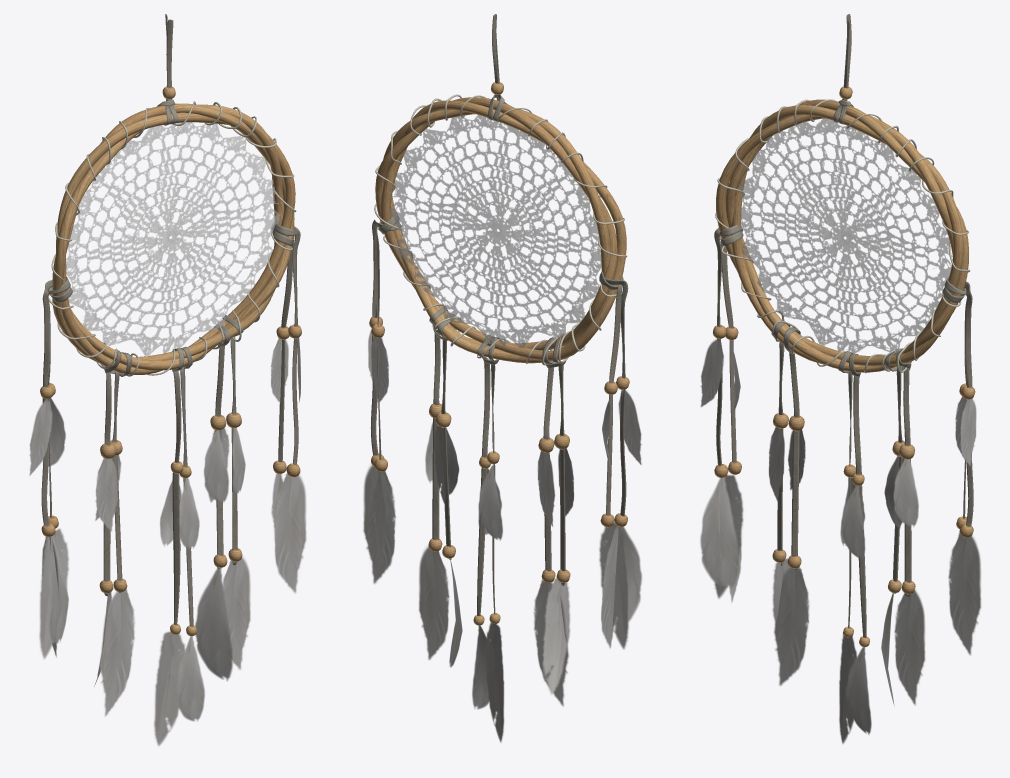
File: dreamcatcher.glb
3 renders of one model, left to right at view 1: azimuth 30°, elevation 25°; view 2: azimuth 150°, elevation 25°; view 3: azimuth 330°, elevation 25°, orthographic.
Visible parts, largest first — view 1: Plane.001_23, Cylinder.001_25, Cylinder.002_24, Plane.006_33, Plane.002_32, Cylinder_26, Plane.010_17, Plane.009_18, Plane.023_3, Sphere.007_29, mid_31, Plane.011_16 (+14 smaller); view 2: Plane.001_23, Cylinder.002_24, Cylinder.001_25, Plane.002_32, Plane.006_33, Cylinder_26, Sphere.007_29, Plane.003_19, Plane.012_15, String_0, mid_31, Plane.009_18 (+16 smaller); view 3: Plane.001_23, Cylinder_26, Plane.002_32, Cylinder.002_24, Cylinder.001_25, Plane.006_33, Plane.005_21, Plane.010_17, Plane.009_18, Sphere.007_29, Plane.003_19, String_0 (+13 smaller).
Part boxes in pixels (<box>): Plane.001_23: <box>66,122,279,355</box>; Cylinder.001_25: <box>56,112,295,374</box>; Cylinder.002_24: <box>52,104,283,362</box>; Plane.006_33: <box>41,223,300,525</box>; Plane.002_32: <box>100,315,243,596</box>; Cylinder_26: <box>52,103,294,370</box>; Plane.010_17: <box>99,589,134,716</box>; Plane.009_18: <box>273,473,306,593</box>; Plane.023_3: <box>195,568,232,681</box>; Sphere.007_29: <box>40,324,301,636</box>; mid_31: <box>172,346,193,626</box>; Plane.011_16: <box>154,631,185,746</box>; Plane.001_23: <box>391,115,601,347</box>; Cylinder.002_24: <box>380,100,626,361</box>; Cylinder.001_25: <box>383,108,610,363</box>; Plane.002_32: <box>429,307,565,585</box>; Plane.006_33: <box>370,212,628,516</box>; Cylinder_26: <box>375,97,617,350</box>; Sphere.007_29: <box>369,317,629,625</box>; Plane.003_19: <box>419,546,449,660</box>; Plane.012_15: <box>542,578,570,694</box>; String_0: <box>374,94,627,365</box>; mid_31: <box>477,335,499,615</box>; Plane.009_18: <box>363,465,395,583</box>; Plane.001_23: <box>740,118,952,353</box>; Cylinder_26: <box>726,99,968,372</box>; Plane.002_32: <box>773,320,911,596</box>; Cylinder.002_24: <box>716,115,953,366</box>; Cylinder.001_25: <box>731,105,963,364</box>; Plane.006_33: <box>714,225,973,526</box>; Plane.005_21: <box>700,477,739,588</box>; Plane.010_17: <box>774,567,809,685</box>; Plane.009_18: <box>948,534,981,655</box>; Sphere.007_29: <box>713,324,975,647</box>; Plane.003_19: <box>894,589,925,705</box>; String_0: <box>715,99,970,373</box>.
Size of the model in its own units: 0.8994 by 2.09 by 0.2078.
Materials: 5 (4 with a texture image).
